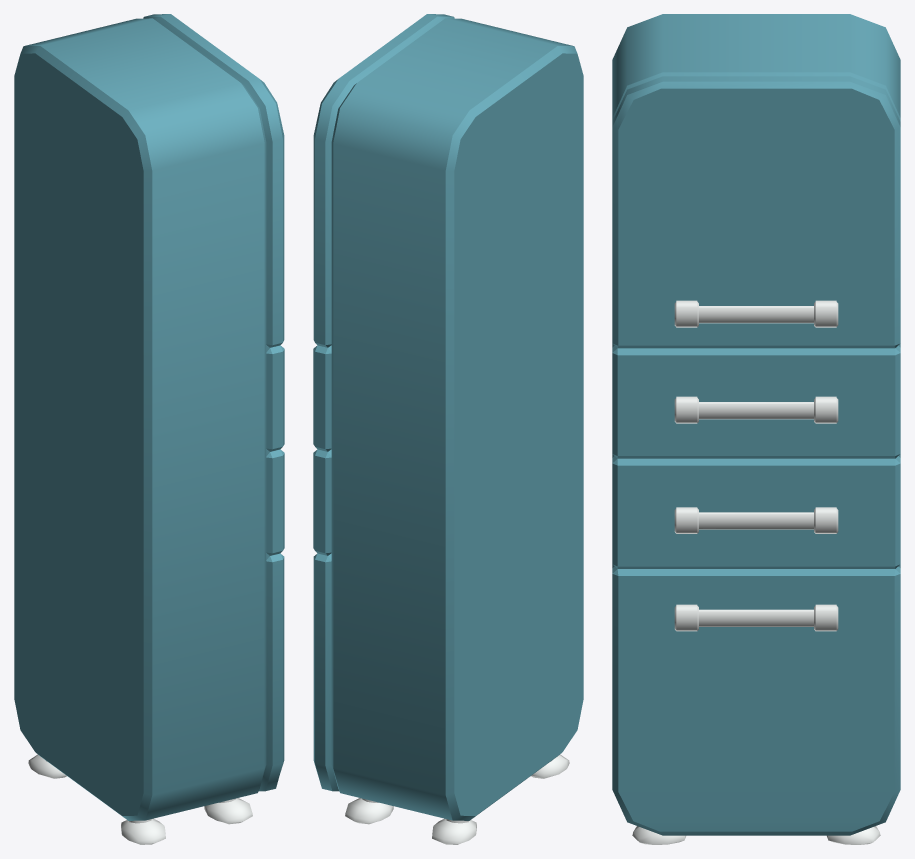
The model's file is Locker.glb.
3 renders of one model, left to right at view 1: azimuth 30°, elevation 25°; view 2: azimuth 150°, elevation 25°; view 3: azimuth 270°, elevation 25°, orthographic. The views are drawn at different scales.
Parts seen in each view (by area): view 1: Locker, Locker_Box1, Locker_Box4, Locker_Box2, Locker_Box3; view 2: Locker, Locker_Box1, Locker_Box4, Locker_Box2, Locker_Box3; view 3: Locker_Box1, Locker_Box4, Locker_Box2, Locker_Box3, Locker.
Part boxes in pixels (x1=…): Locker: x1=14, y1=18, x2=266, y2=844; Locker_Box1: x1=143, y1=14, x2=284, y2=347; Locker_Box4: x1=259, y1=553, x2=284, y2=791; Locker_Box2: x1=266, y1=345, x2=284, y2=451; Locker_Box3: x1=266, y1=449, x2=284, y2=555; Locker: x1=331, y1=18, x2=583, y2=844; Locker_Box1: x1=313, y1=14, x2=454, y2=347; Locker_Box4: x1=313, y1=553, x2=338, y2=791; Locker_Box2: x1=313, y1=345, x2=331, y2=451; Locker_Box3: x1=313, y1=449, x2=331, y2=555; Locker_Box1: x1=612, y1=76, x2=900, y2=348; Locker_Box4: x1=612, y1=566, x2=900, y2=835; Locker_Box2: x1=612, y1=345, x2=900, y2=458; Locker_Box3: x1=612, y1=456, x2=900, y2=568; Locker: x1=612, y1=14, x2=900, y2=844.
Bounding box in the file's own units: 0.331 × 1.48 × 0.5009.
2 materials, 1 textured.
